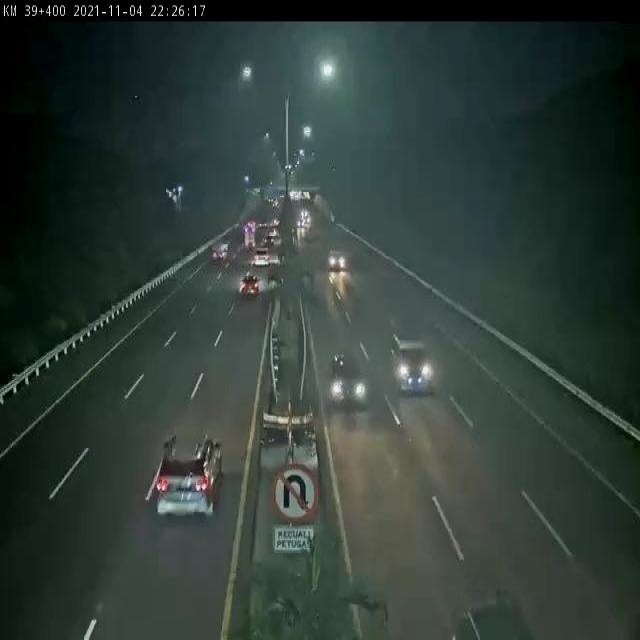Car: (155, 431, 224, 521), (390, 332, 435, 396), (330, 348, 364, 404), (239, 275, 260, 298), (328, 250, 347, 270), (253, 248, 271, 267)
